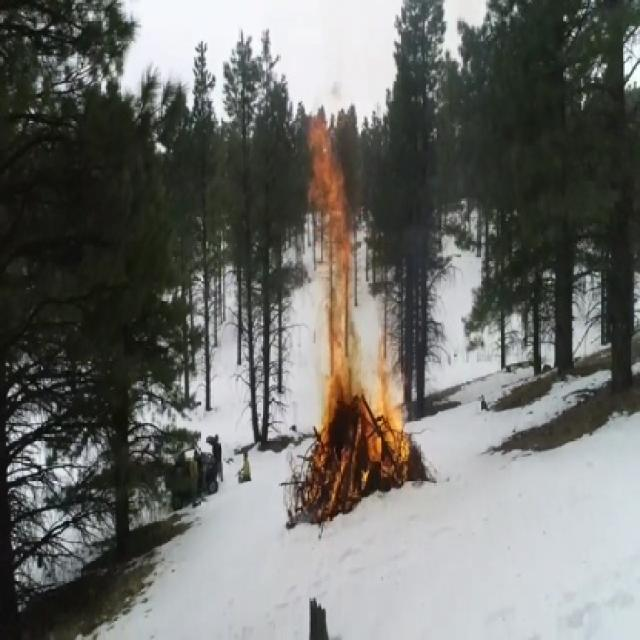Fire: (280, 103, 414, 525)
